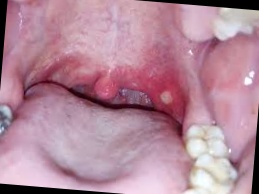Ulcer: (160, 88, 175, 105)
